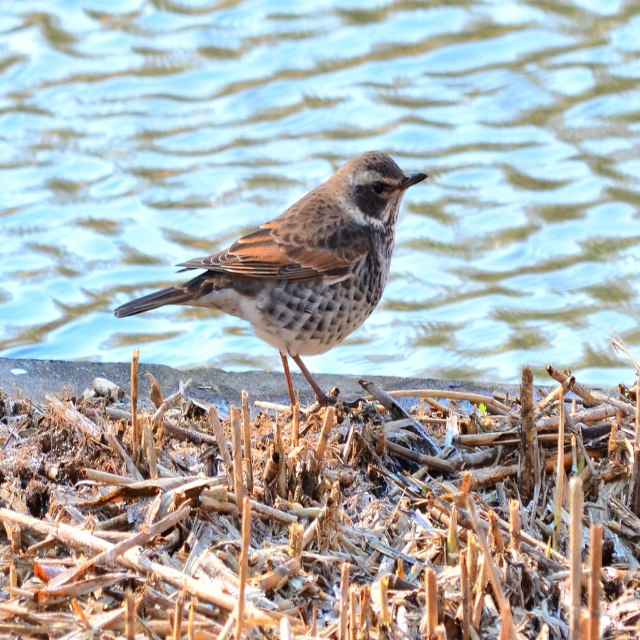Sparrow: (113, 144, 429, 418)
